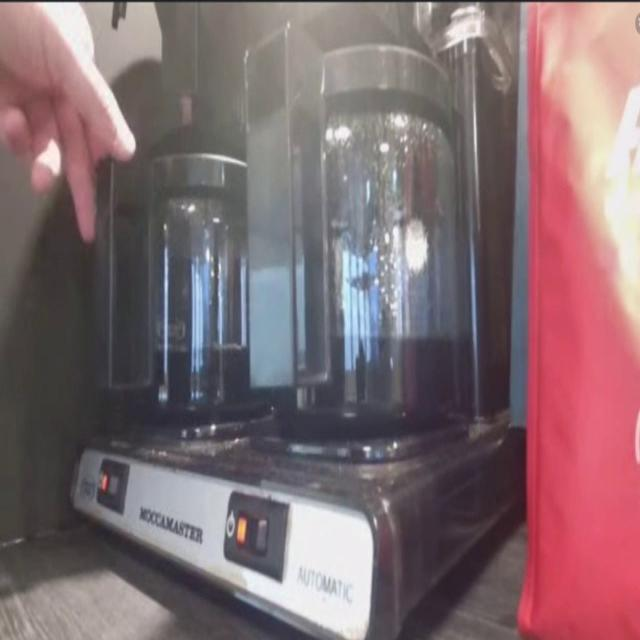coffee: (235, 21, 480, 472), (108, 102, 272, 443)
